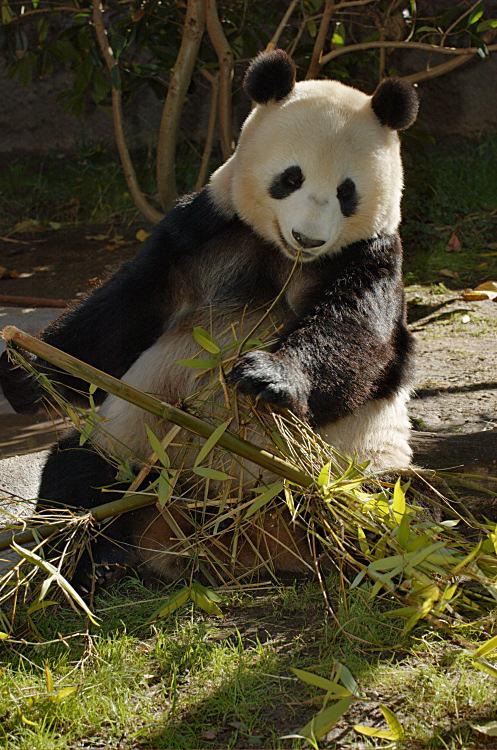panda: (40, 50, 417, 471), (71, 450, 310, 594), (37, 388, 194, 514)
